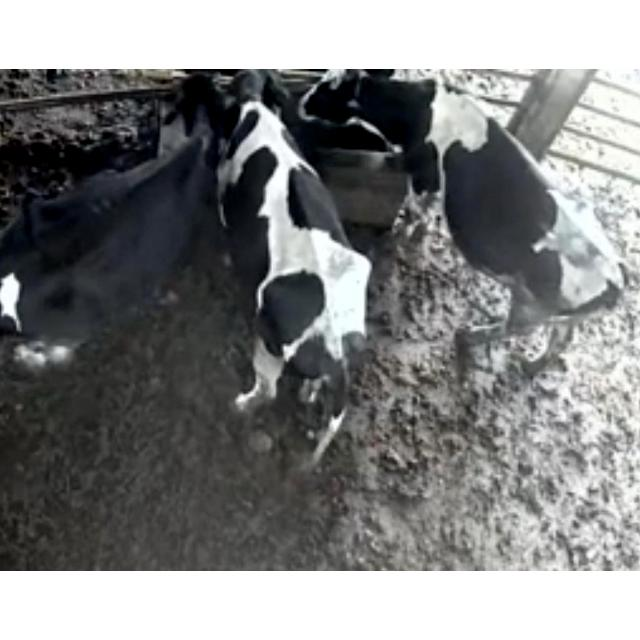drink: (302, 70, 436, 160), (152, 69, 235, 179), (226, 70, 302, 184)
